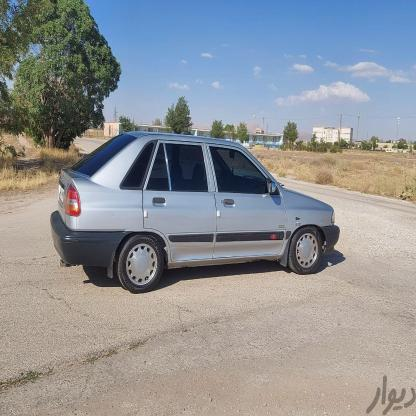Car: (56, 138, 340, 288)
